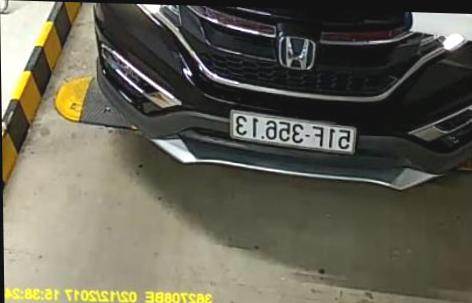License_Plate: (218, 106, 358, 160)
